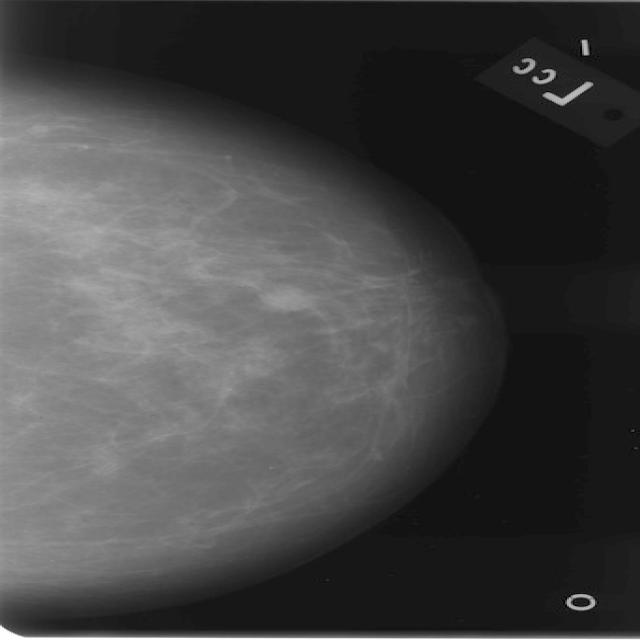tumour: (258, 285, 316, 310)
